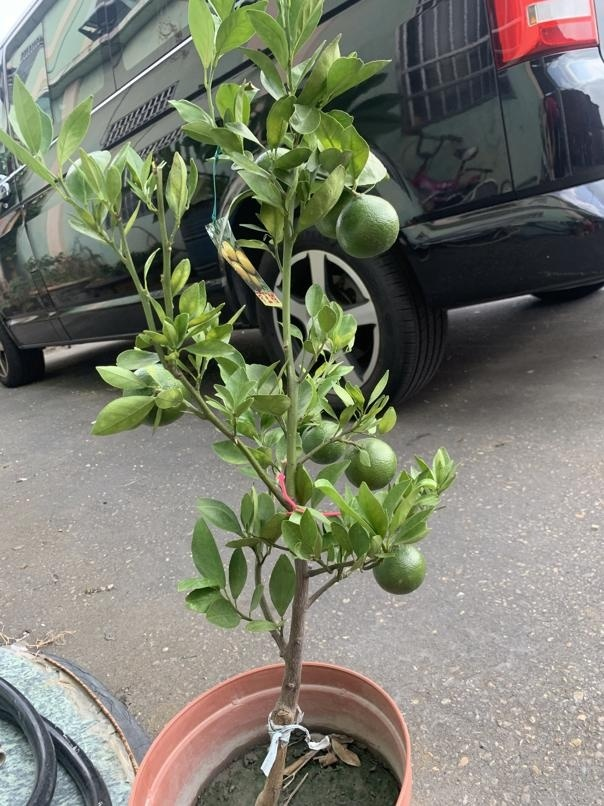Tangerine: (334, 192, 401, 259), (374, 542, 428, 600)
